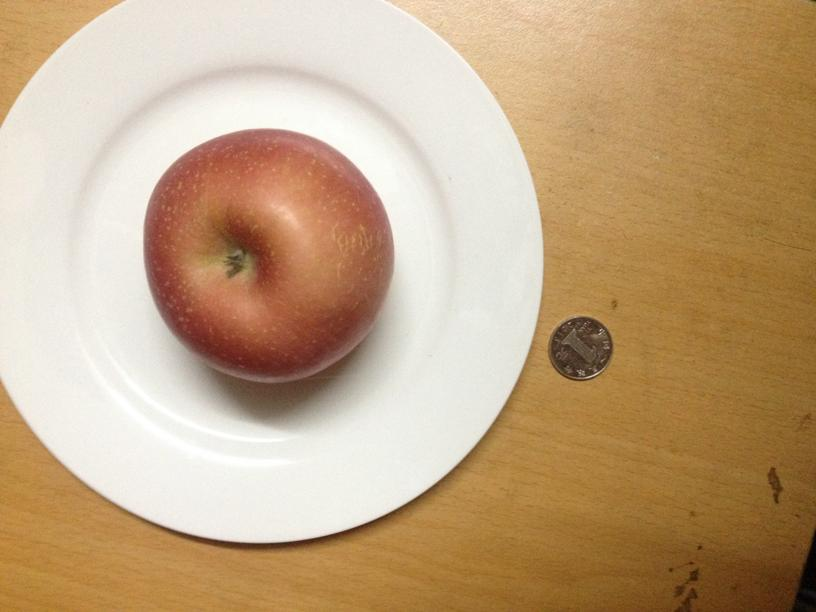apple: (146, 130, 395, 384)
coin: (548, 313, 611, 379)
